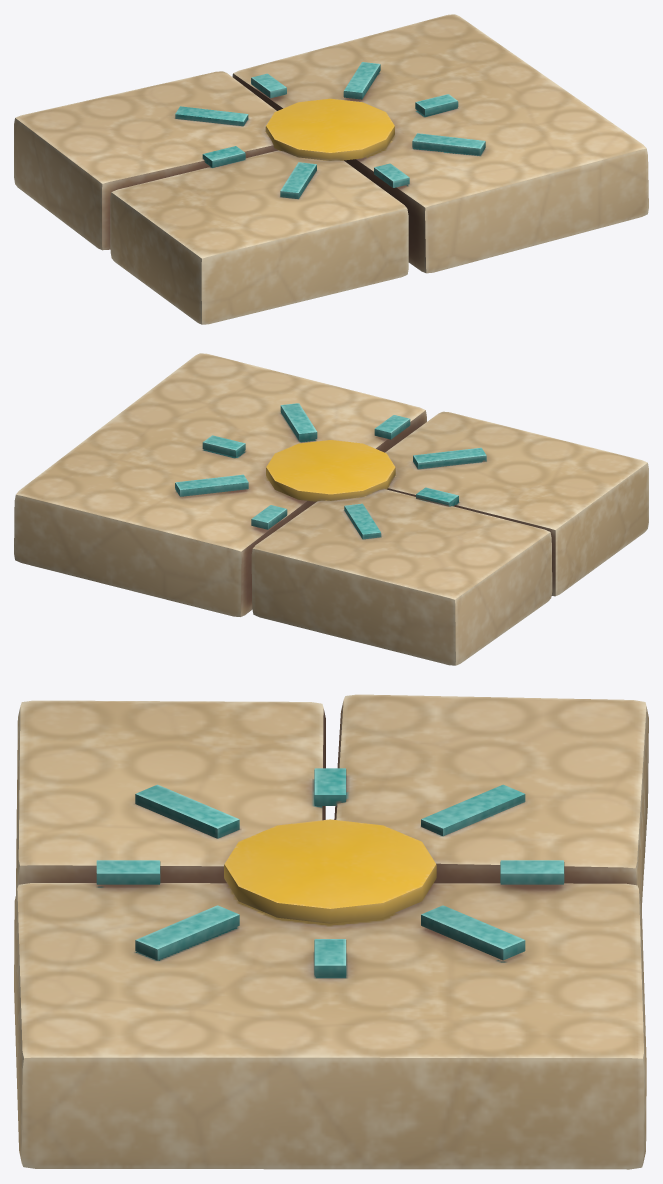
File: Desert_Dalle.fbx
3 renders of one model, top to bottom at view 1: azimuth 30°, elevation 25°; view 2: azimuth 150°, elevation 25°; view 3: azimuth 270°, elevation 25°, orthographic. The views are drawn at different scales.
Parts seen in each view (by area): view 1: Desert_Dalle; view 2: Desert_Dalle; view 3: Desert_Dalle.
Boxes of the visible parts, box(x1,y1,x2,y2) form: Desert_Dalle: box(14, 14, 648, 324); Desert_Dalle: box(14, 353, 648, 665); Desert_Dalle: box(14, 694, 648, 1169).
Size of the model in its own units: 808 by 142 by 597.
1 material, 1 textured.
